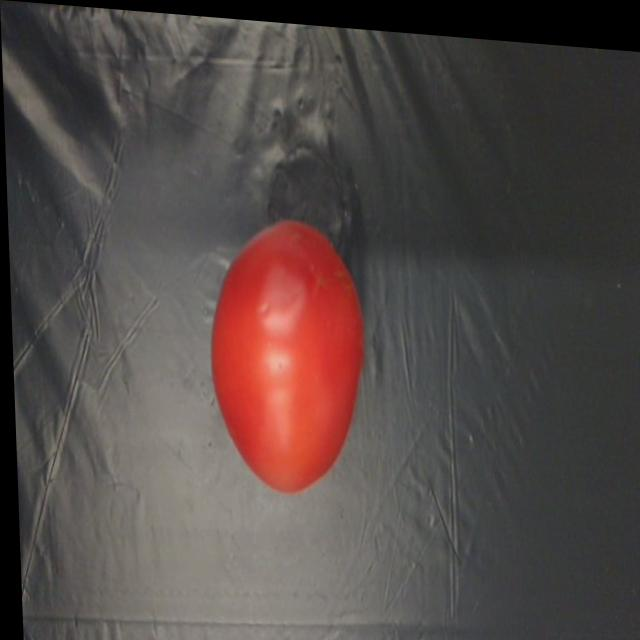kirmizi: (197, 197, 380, 511)
